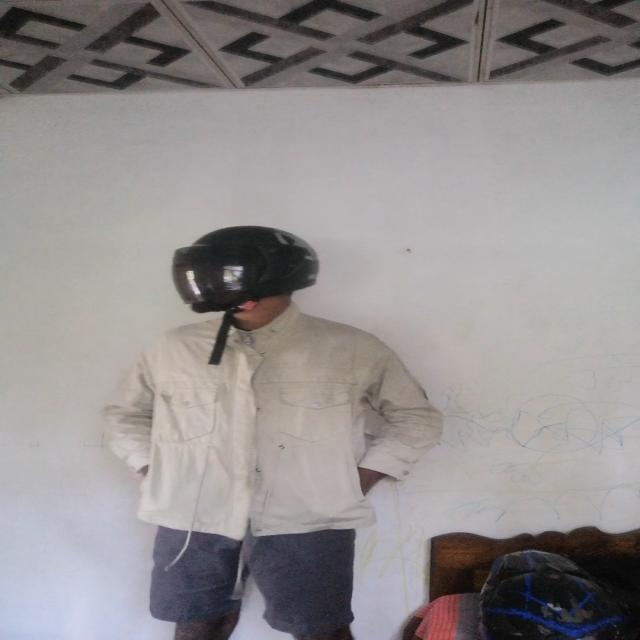Helmet_Wearer: (154, 224, 336, 325)
Jacket_Wearer: (120, 312, 434, 552)
Person: (114, 215, 424, 640)
